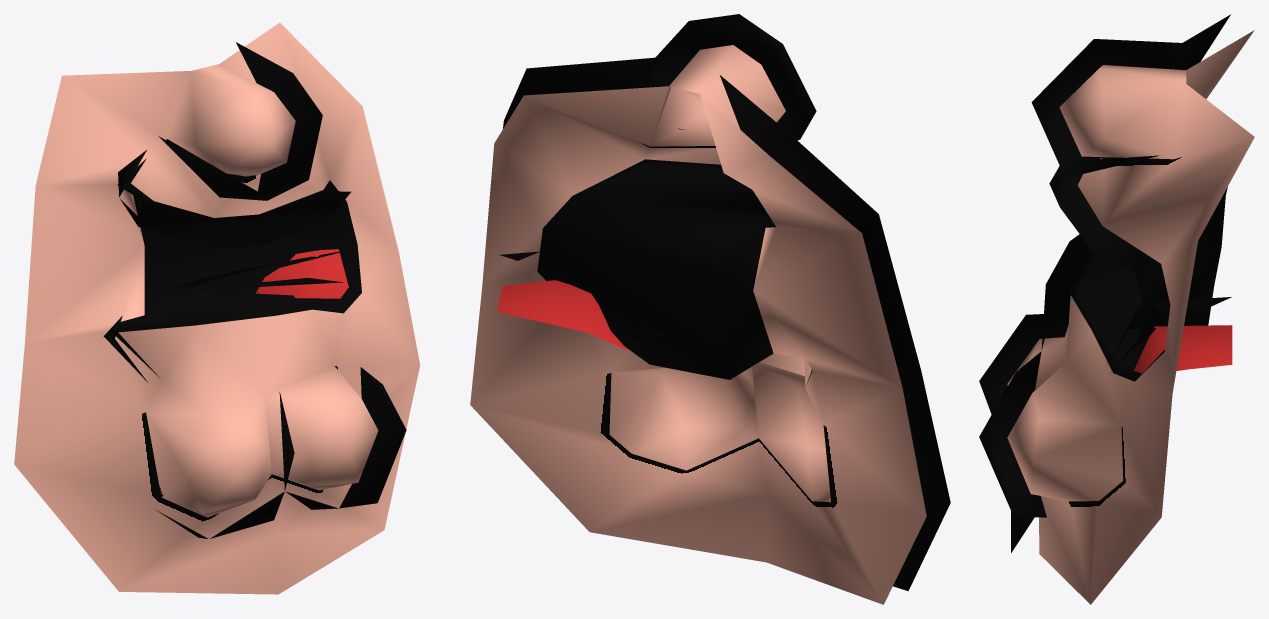
File: mouth_4.obj
3 views of the same model, side by side, from view 1: azimuth 30°, elevation 25°; view 2: azimuth 150°, elevation 25°; view 3: azimuth 270°, elevation 25° (orthographic). The views are drawn at different scales.
Parts seen in each view (by area): view 1: Mesh_0002.001_Mesh_0002Mesh.001, Mesh_0001.002_Mesh_0001Mesh.002, Mesh_0003.002_Mesh_0003Mesh.002; view 2: Mesh_0002.001_Mesh_0002Mesh.001, Mesh_0001.002_Mesh_0001Mesh.002, Mesh_0003.002_Mesh_0003Mesh.002; view 3: Mesh_0002.001_Mesh_0002Mesh.001, Mesh_0001.002_Mesh_0001Mesh.002, Mesh_0003.002_Mesh_0003Mesh.002.
Part boxes in pixels (x1=…): Mesh_0002.001_Mesh_0002Mesh.001: x1=14, y1=22, x2=420, y2=594; Mesh_0001.002_Mesh_0001Mesh.002: x1=103, y1=42, x2=406, y2=538; Mesh_0003.002_Mesh_0003Mesh.002: x1=256, y1=249, x2=348, y2=298; Mesh_0002.001_Mesh_0002Mesh.001: x1=470, y1=45, x2=926, y2=604; Mesh_0001.002_Mesh_0001Mesh.002: x1=499, y1=14, x2=950, y2=591; Mesh_0003.002_Mesh_0003Mesh.002: x1=497, y1=280, x2=627, y2=350; Mesh_0002.001_Mesh_0002Mesh.001: x1=1007, y1=30, x2=1254, y2=604; Mesh_0001.002_Mesh_0001Mesh.002: x1=979, y1=14, x2=1231, y2=552; Mesh_0003.002_Mesh_0003Mesh.002: x1=1133, y1=325, x2=1232, y2=373.
Bounding box in the file's own units: 0.3641 × 0.416 × 0.2043.
Materials: 3 (3 with a texture image).
